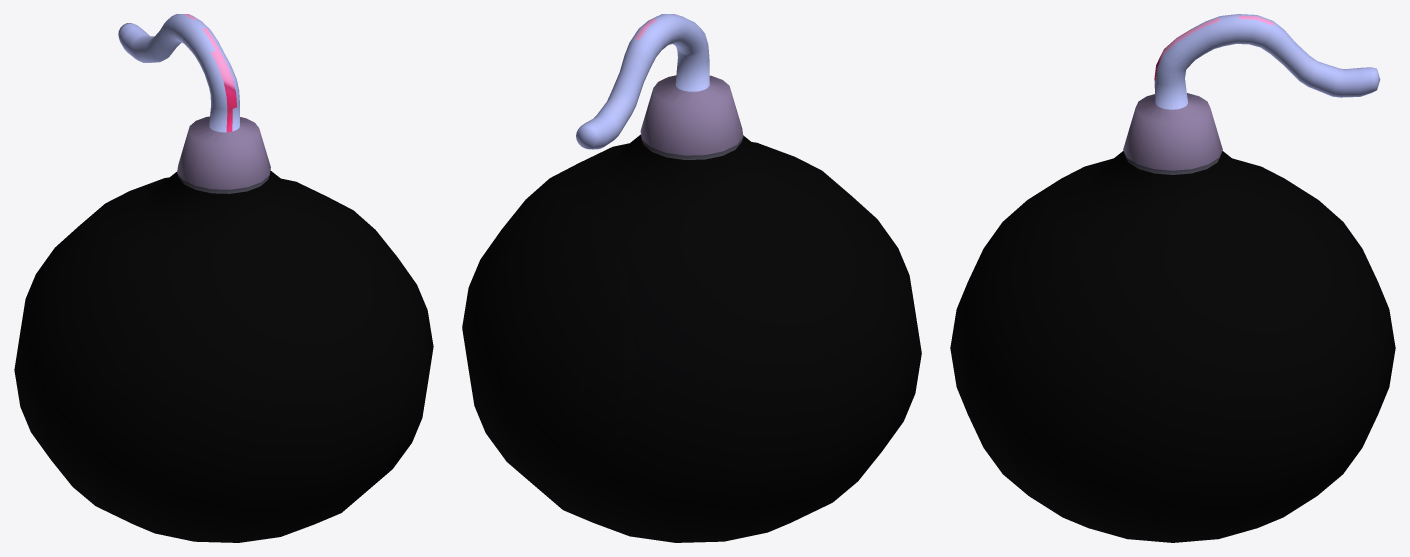
Rendered from bomba.fbx.
The picture shows the model from 3 angles, left to right: view 1: azimuth 30°, elevation 25°; view 2: azimuth 150°, elevation 25°; view 3: azimuth 270°, elevation 25°; orthographic projection. The views are drawn at different scales.
Visible parts, largest first — view 1: Regular_Bomb; view 2: Regular_Bomb; view 3: Regular_Bomb.
Boxes of the visible parts, x1,y1,x2,y2 form: Regular_Bomb: [14, 14, 433, 542]; Regular_Bomb: [462, 14, 921, 542]; Regular_Bomb: [950, 14, 1395, 542].
Bounding box in the file's own units: 233 × 292 × 233.
Materials: 1 (1 with a texture image).
